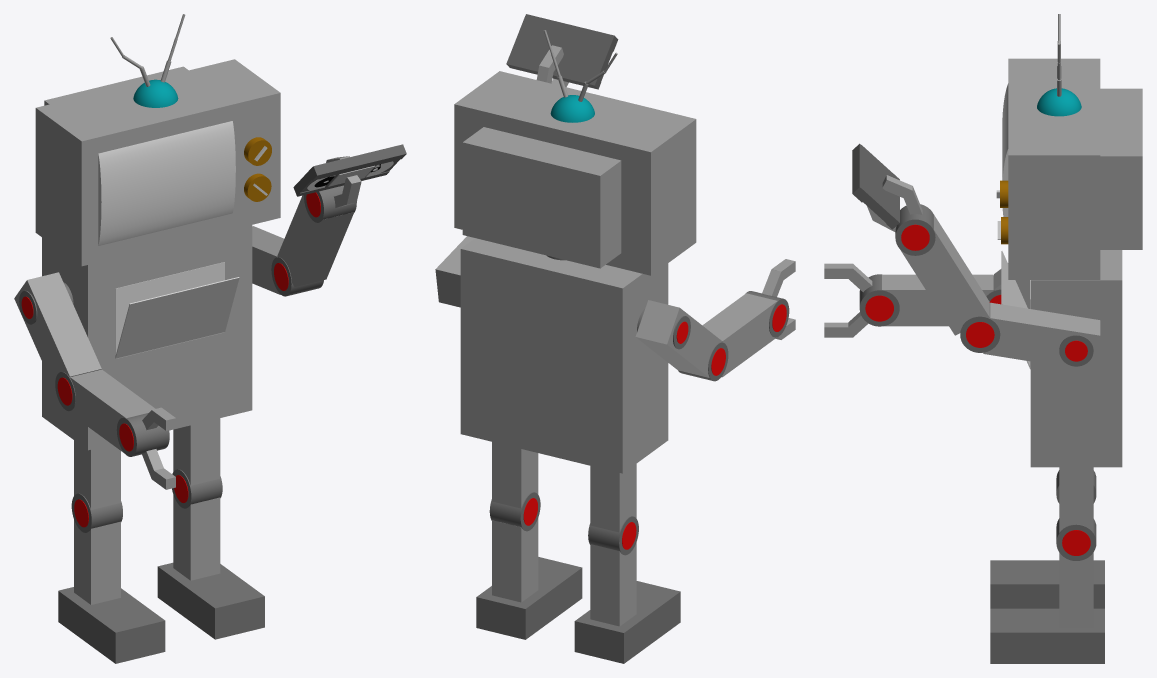
The model's file is RobotSinPiso.glb.
3 renders of one model, left to right at view 1: azimuth 30°, elevation 25°; view 2: azimuth 150°, elevation 25°; view 3: azimuth 270°, elevation 25°, orthographic.
Bounding box in the file's own units: 2.68 × 5.76 × 2.78.
